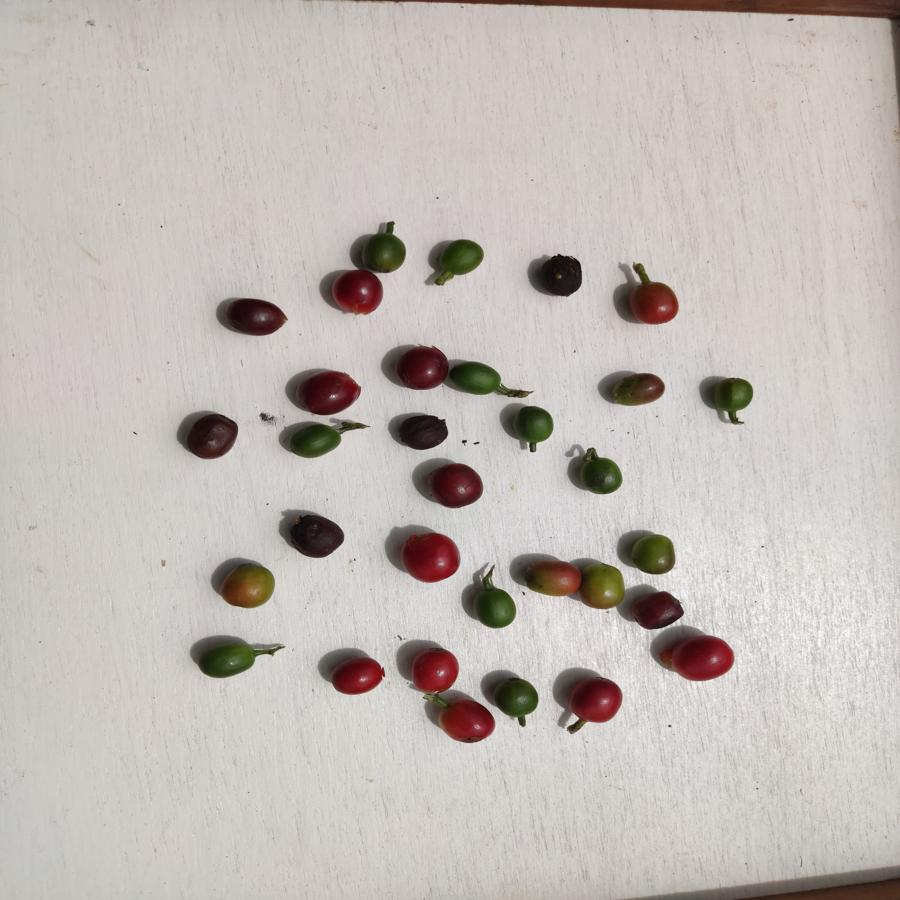Inmaduro: (195, 641, 263, 677), (508, 402, 558, 449), (448, 360, 502, 403), (575, 454, 624, 501), (433, 238, 489, 277), (289, 420, 342, 459), (493, 676, 537, 721), (708, 372, 756, 413), (359, 232, 408, 272), (470, 590, 518, 628)
Maduro: (672, 633, 737, 687), (400, 533, 463, 582), (568, 672, 625, 726), (331, 650, 390, 699), (437, 698, 498, 745), (627, 280, 684, 324), (409, 645, 460, 693)
Pinton: (219, 563, 278, 610), (578, 559, 625, 609), (628, 534, 680, 577), (525, 562, 582, 601), (609, 369, 663, 409)
Sobremaduro: (294, 364, 360, 415), (425, 464, 489, 510), (285, 512, 347, 559), (220, 293, 285, 337), (395, 343, 449, 393), (395, 407, 451, 453), (332, 270, 389, 315), (188, 413, 238, 462), (631, 589, 684, 633), (538, 250, 586, 295)
